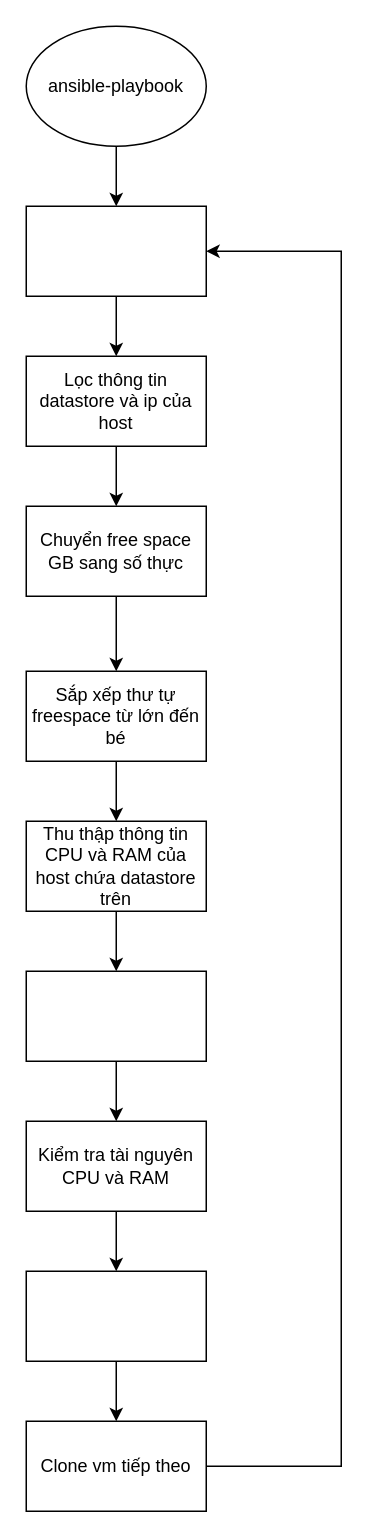
Image size: 380x1538. Some labels were removed from this diagram. Here are the shapes that lost their labels. From the top down, the centre of each, then its label:
At (x=115, y=250): "List datastore trên vcenter".
At (x=115, y=1015): "Trích xuất thông tin CPU và RAM".
At (x=115, y=1315): "Clone VM lên datastore đã chọn".
